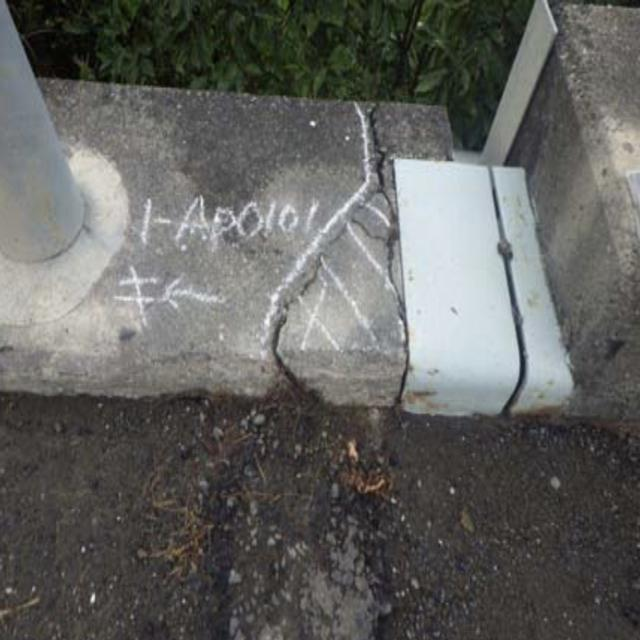crack: (266, 103, 427, 420)
